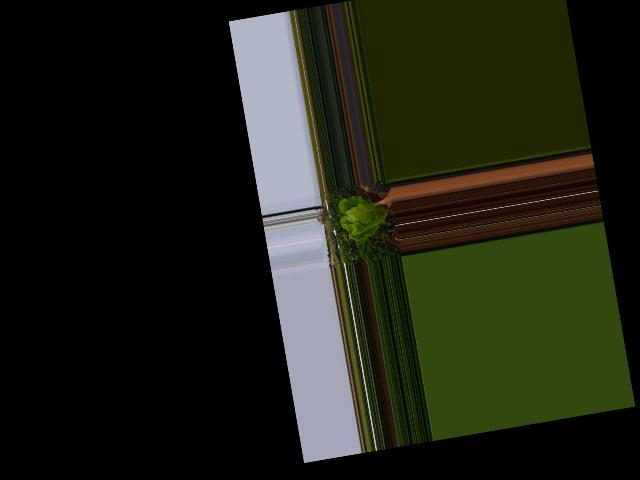lettuce: (335, 188, 395, 245)
